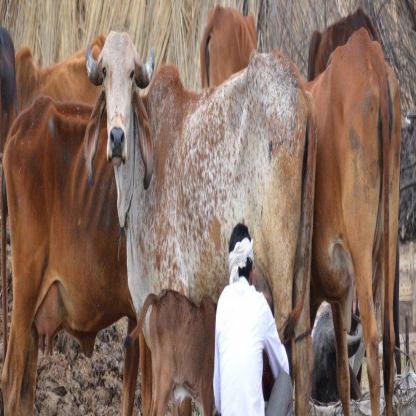cow: (102, 33, 318, 305), (5, 101, 138, 415), (307, 31, 402, 416), (145, 290, 215, 412), (200, 3, 260, 88)
